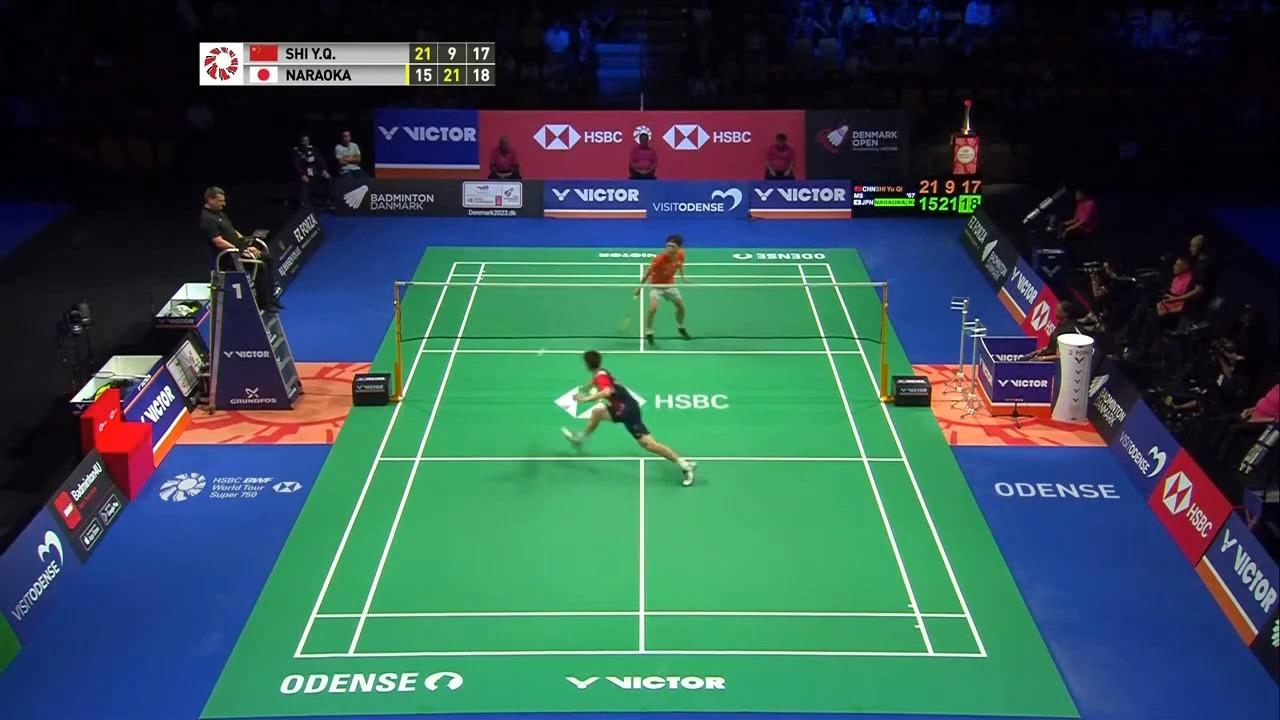shuttle: (535, 345, 546, 356)
